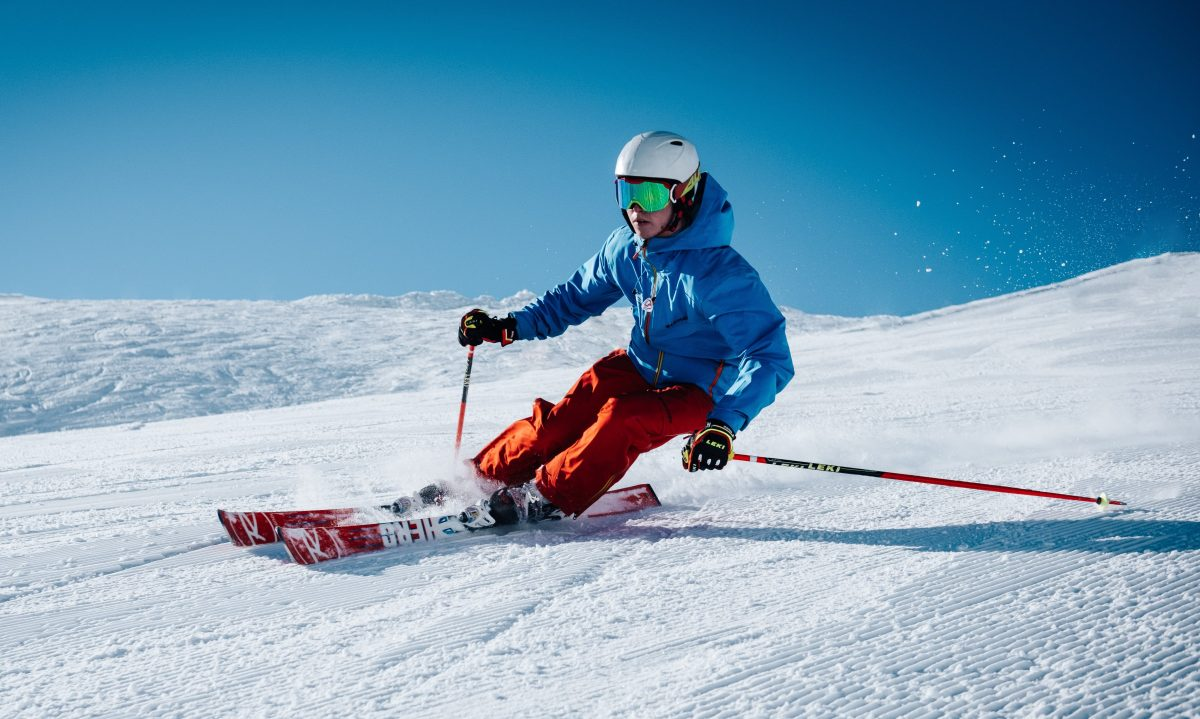skier: (217, 125, 1133, 573)
